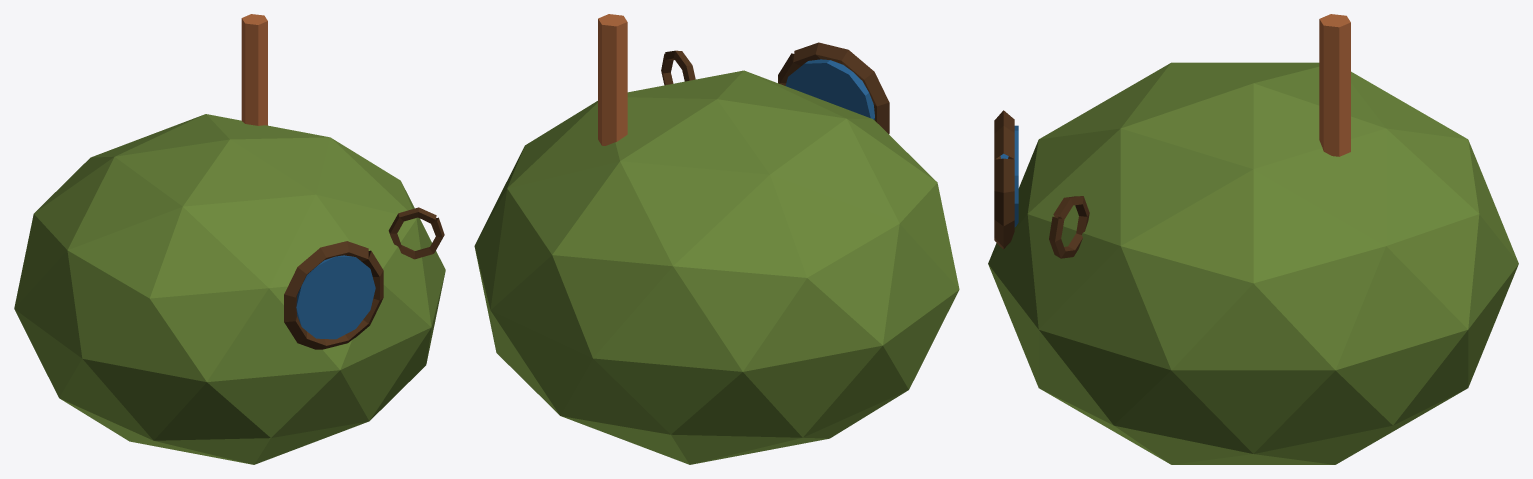
Rendered from gnome_house_c_broken.glb.
3 renders of one model, left to right at view 1: azimuth 30°, elevation 25°; view 2: azimuth 150°, elevation 25°; view 3: azimuth 270°, elevation 25°, orthographic. The views are drawn at different scales.
Parts seen in each view (by area): view 1: gnome_house_c_piece8, gnome_house_c_piece3, gnome_house_c_piece6, gnome_house_c_piece5, gnome_house_c_piece2, gnome_house_c_piece7, gnome_house_c_piece10, gnome_house_c_piece11, gnome_house_c_piece4; view 2: gnome_house_c_piece9, gnome_house_c_piece10, gnome_house_c_piece1, gnome_house_c_piece5, gnome_house_c_piece3, gnome_house_c_piece7, gnome_house_c_piece4, gnome_house_c_piece0, gnome_house_c_piece6, gnome_house_c_piece8, gnome_house_c_piece2, gnome_house_c_piece12; view 3: gnome_house_c_piece2, gnome_house_c_piece0, gnome_house_c_piece5, gnome_house_c_piece6, gnome_house_c_piece9, gnome_house_c_piece10, gnome_house_c_piece1, gnome_house_c_piece12, gnome_house_c_piece11, gnome_house_c_piece3, gnome_house_c_piece8.
Boxes of the visible parts, bbox=[...] form: gnome_house_c_piece8: bbox=[129, 233, 358, 444]; gnome_house_c_piece3: bbox=[41, 128, 235, 442]; gnome_house_c_piece6: bbox=[214, 176, 431, 428]; gnome_house_c_piece5: bbox=[130, 14, 321, 255]; gnome_house_c_piece2: bbox=[287, 136, 445, 377]; gnome_house_c_piece7: bbox=[14, 199, 225, 450]; gnome_house_c_piece10: bbox=[32, 114, 227, 218]; gnome_house_c_piece11: bbox=[197, 432, 314, 464]; gnome_house_c_piece4: bbox=[95, 420, 218, 454]; gnome_house_c_piece9: bbox=[519, 170, 711, 432]; gnome_house_c_piece10: bbox=[581, 144, 817, 363]; gnome_house_c_piece1: bbox=[565, 161, 885, 424]; gnome_house_c_piece5: bbox=[509, 14, 878, 184]; gnome_house_c_piece3: bbox=[673, 142, 959, 326]; gnome_house_c_piece7: bbox=[811, 227, 940, 404]; gnome_house_c_piece4: bbox=[604, 370, 869, 464]; gnome_house_c_piece0: bbox=[474, 164, 570, 378]; gnome_house_c_piece6: bbox=[734, 42, 875, 128]; gnome_house_c_piece8: bbox=[858, 74, 941, 204]; gnome_house_c_piece2: bbox=[479, 50, 735, 236]; gnome_house_c_piece12: bbox=[511, 297, 590, 427]; gnome_house_c_piece2: bbox=[1041, 113, 1375, 448]; gnome_house_c_piece0: bbox=[1178, 183, 1478, 464]; gnome_house_c_piece5: bbox=[1109, 14, 1377, 248]; gnome_house_c_piece6: bbox=[994, 99, 1164, 448]; gnome_house_c_piece9: bbox=[1378, 180, 1518, 374]; gnome_house_c_piece10: bbox=[1351, 75, 1454, 172]; gnome_house_c_piece1: bbox=[1367, 132, 1488, 189]; gnome_house_c_piece12: bbox=[1213, 285, 1484, 464]; gnome_house_c_piece11: bbox=[1117, 433, 1214, 464]; gnome_house_c_piece3: bbox=[1264, 62, 1357, 87]; gnome_house_c_piece8: bbox=[988, 123, 1066, 340].
Size of the model in its own units: 2.47 by 2.47 by 2.6.
